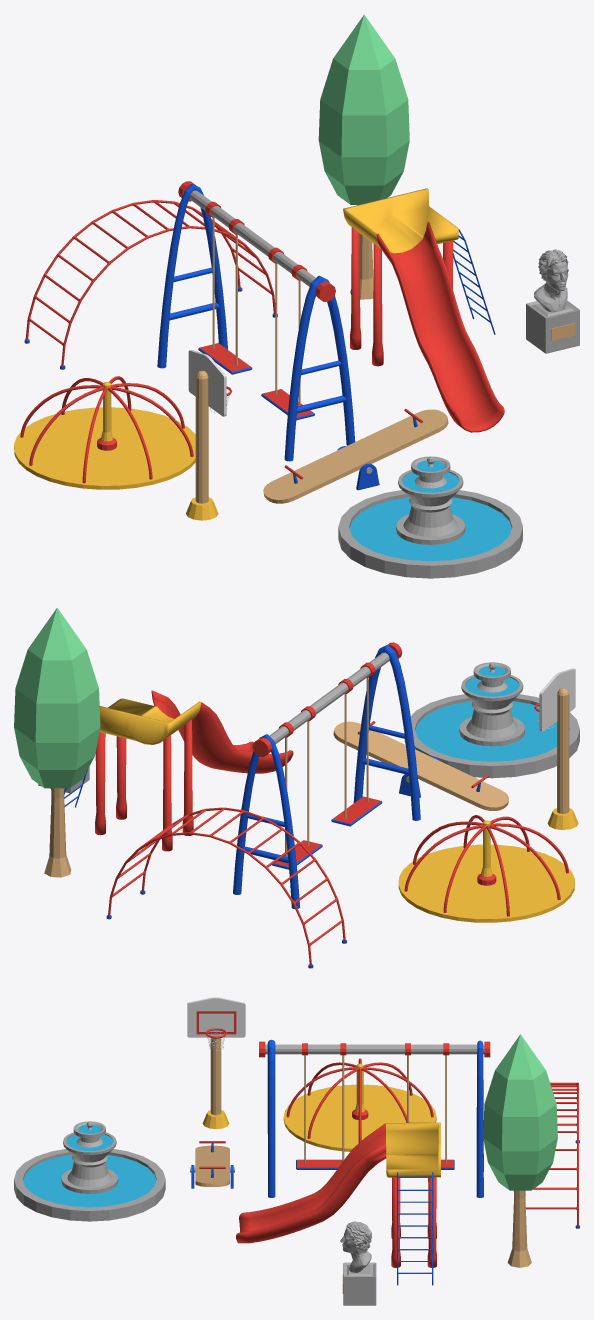
File: park_assets.glb
3 views of the same model, one above another, from view 1: azimuth 30°, elevation 25°; view 2: azimuth 150°, elevation 25°; view 3: azimuth 270°, elevation 25° (orthographic). The views are drawn at different scales.
Visible parts, largest first — view 1: Tobogan, Fountain, Tree, Calesita, Hamaca, Table, Statue, Basket, Trepador, Manijas, H2, H1; view 2: Tree, Fountain, Calesita, Tobogan, Hamaca, Table, Basket, Trepador, Manijas, H1, H2; view 3: Tobogan, Fountain, Tree, Calesita, Hamaca, Basket, Statue, Manijas, Table, Trepador, H1, H2.
Boxes of the visible parts, bbox=[...] form: Tobogan: bbox=[343, 188, 504, 432]; Fountain: bbox=[338, 456, 522, 578]; Tree: bbox=[318, 14, 409, 299]; Calesita: bbox=[14, 382, 195, 489]; Hamaca: bbox=[157, 181, 355, 461]; Table: bbox=[263, 409, 448, 503]; Statue: bbox=[526, 249, 579, 353]; Basket: bbox=[186, 350, 232, 520]; Trepador: bbox=[24, 200, 277, 369]; Manijas: bbox=[20, 376, 193, 483]; H2: bbox=[198, 201, 252, 374]; H1: bbox=[261, 247, 314, 420]; Tree: bbox=[14, 608, 100, 877]; Fountain: bbox=[404, 662, 579, 778]; Calesita: bbox=[398, 820, 574, 922]; Tobogan: bbox=[64, 690, 293, 851]; Hamaca: bbox=[233, 642, 420, 909]; Table: bbox=[333, 721, 509, 810]; Basket: bbox=[534, 668, 578, 829]; Trepador: bbox=[106, 807, 346, 968]; Manijas: bbox=[404, 815, 568, 916]; H1: bbox=[331, 662, 382, 826]; H2: bbox=[272, 706, 322, 869]; Tobogan: bbox=[236, 1122, 440, 1285]; Fountain: bbox=[14, 1121, 165, 1221]; Tree: bbox=[483, 1034, 557, 1267]; Calesita: bbox=[283, 1063, 436, 1151]; Hamaca: bbox=[259, 1039, 490, 1197]; Basket: bbox=[187, 997, 245, 1129]; Statue: bbox=[340, 1221, 376, 1305]; Manijas: bbox=[286, 1058, 433, 1142]; Table: bbox=[195, 1141, 229, 1186]; Trepador: bbox=[526, 1082, 579, 1228]; H1: bbox=[296, 1043, 346, 1169]; H2: bbox=[405, 1043, 454, 1169].
Bounding box in the file's own units: 22.22 × 11.14 × 24.41.
